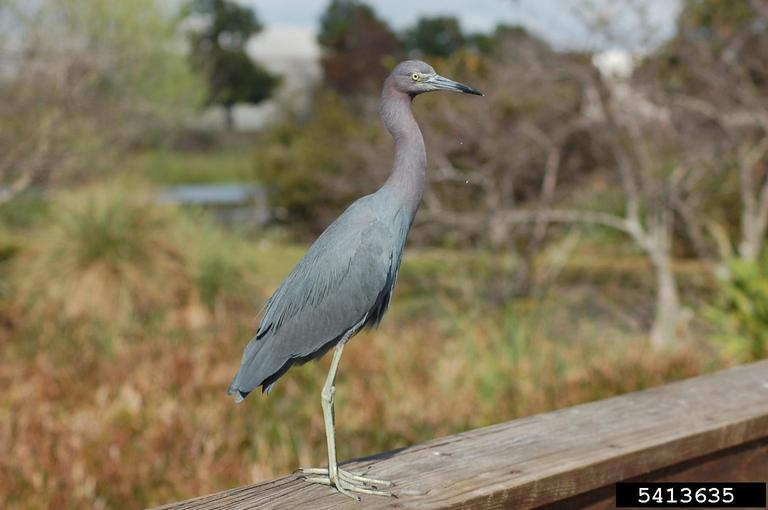heron: (233, 45, 484, 481)
